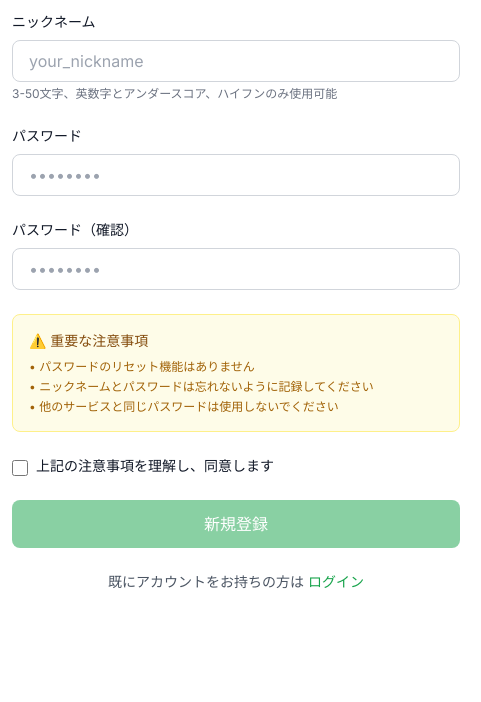
Test: RegisterForm › Validation › should show validation error for passwords not matching
The image size is (481, 702).
Type "testuser" into the field labelled "ニックネーム" at (236,61), box 12,40 -> 460,82
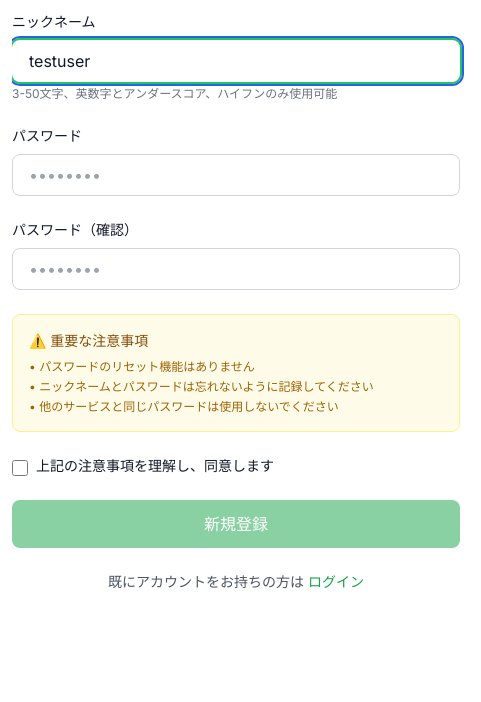
Type "password123" into the password field labelled "パスワード" at (236,175), box 12,154 -> 460,196
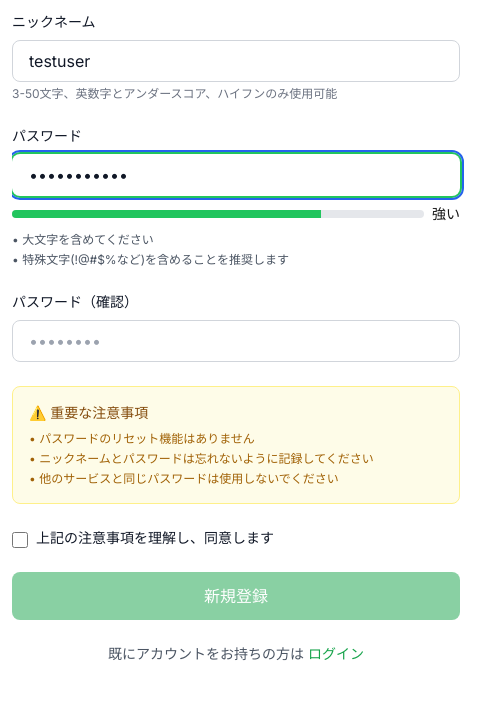
Type "different123" into the password field labelled "パスワード（確認）" at (236,341), box 12,320 -> 460,362
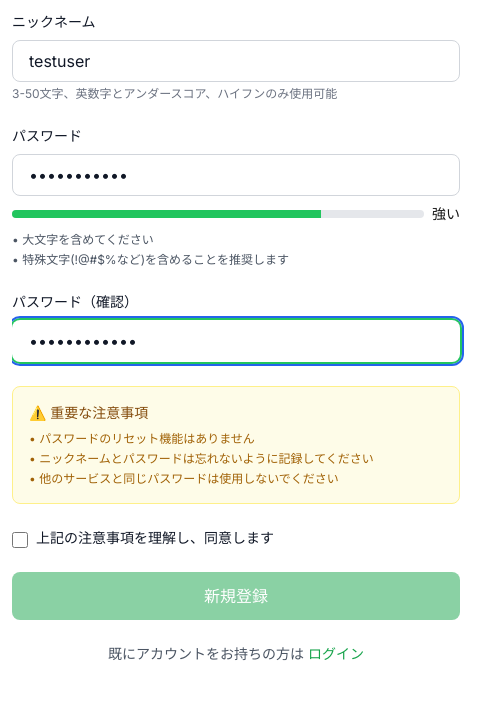
Click the checkbox labelled "上記の注意事項を理解し、同意します" at (20,540), box 12,532 -> 28,548
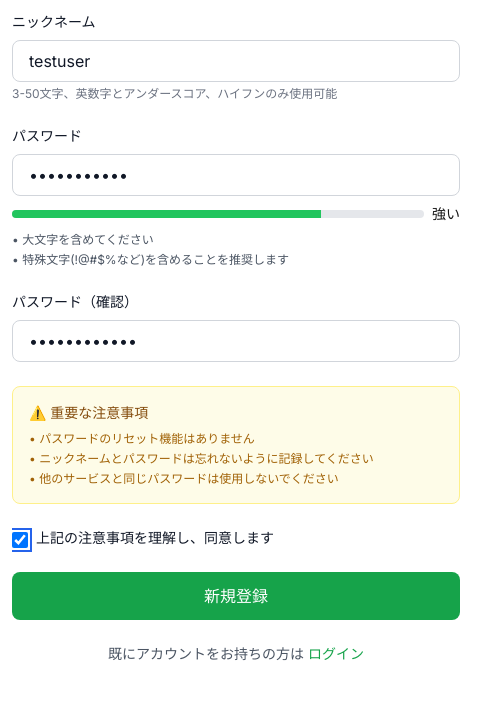
Submit the form
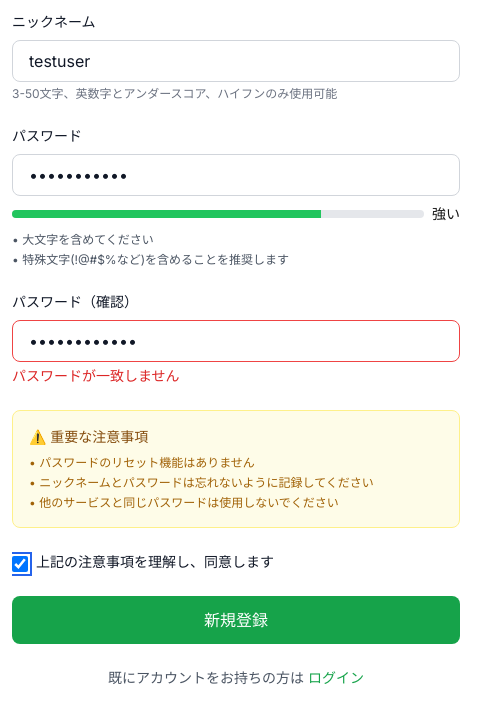
Result: the text "パスワードが一致しません" is shown at 12,367 -> 180,384
